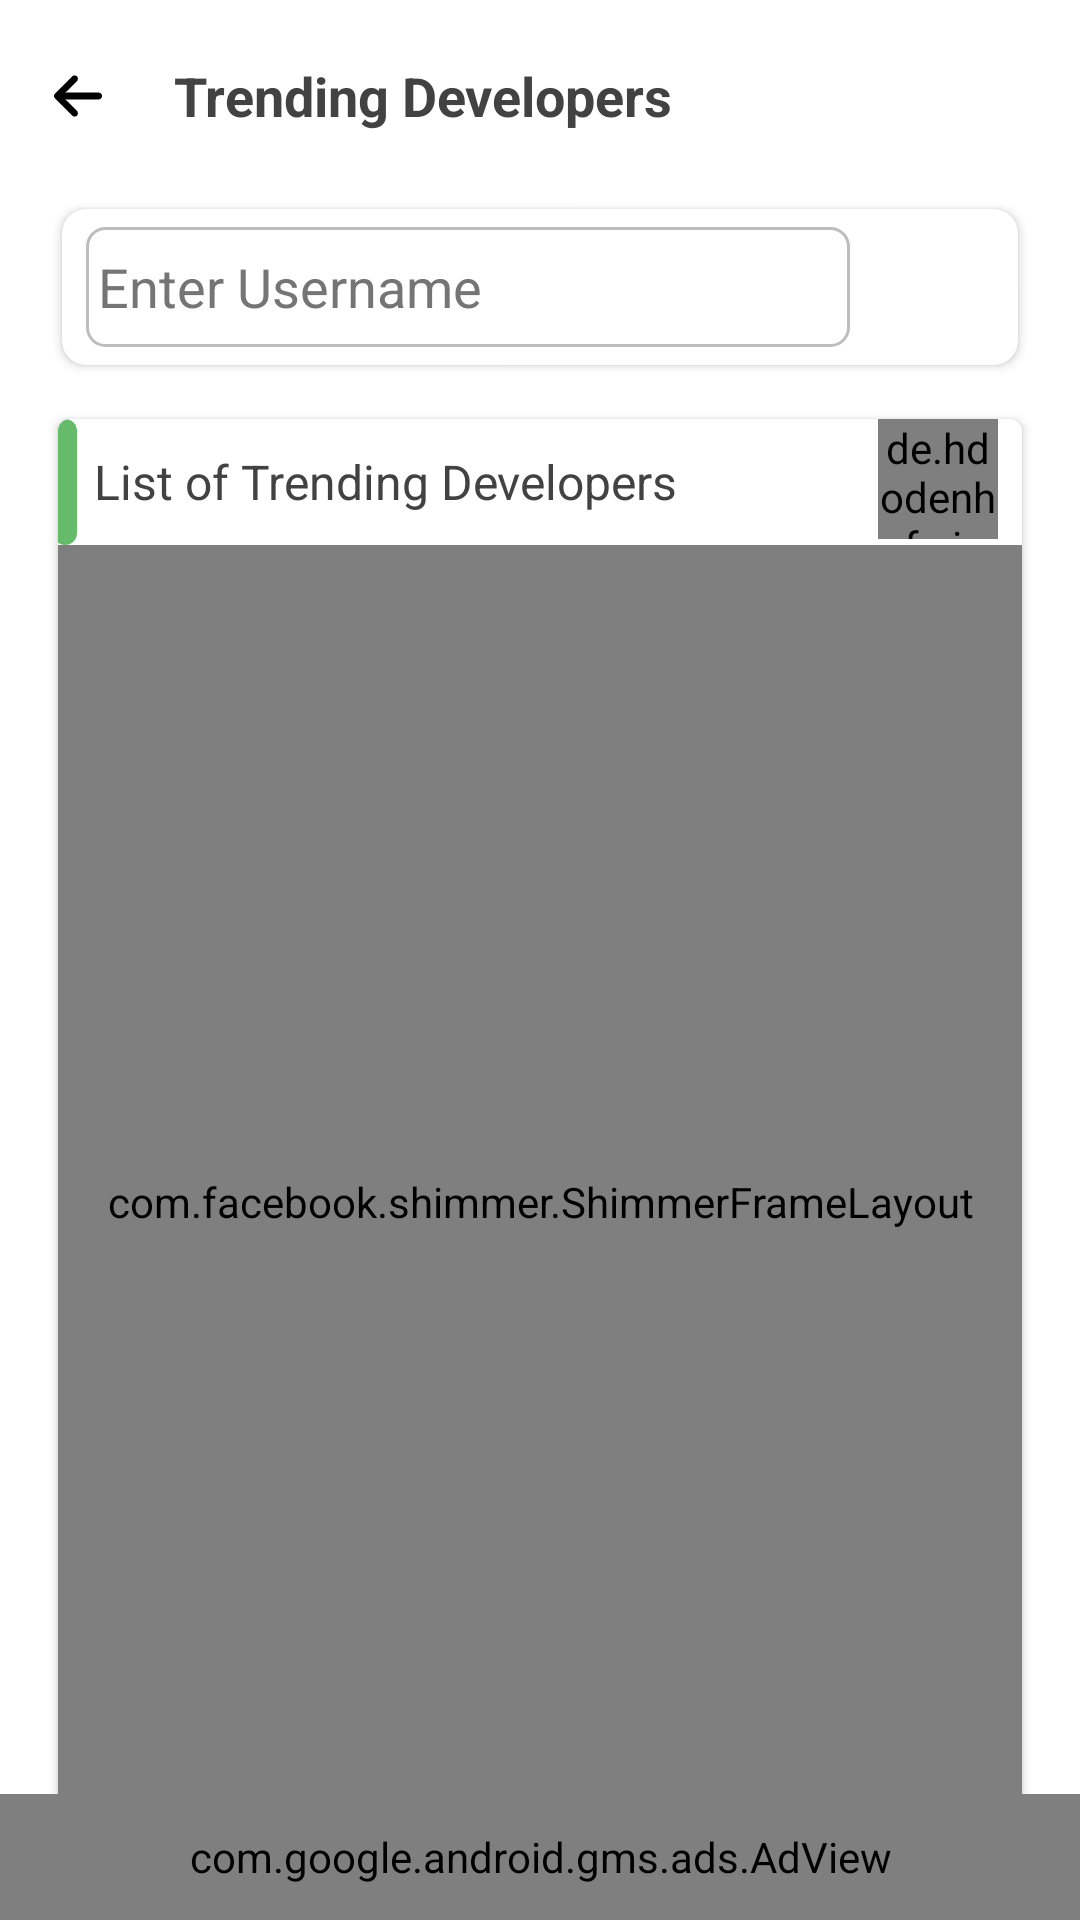

Named icons in this screenshot (1080*1920) and their bounding boxes, (x1, y1, x2, y2):
left arrow: (54, 75, 102, 117)
